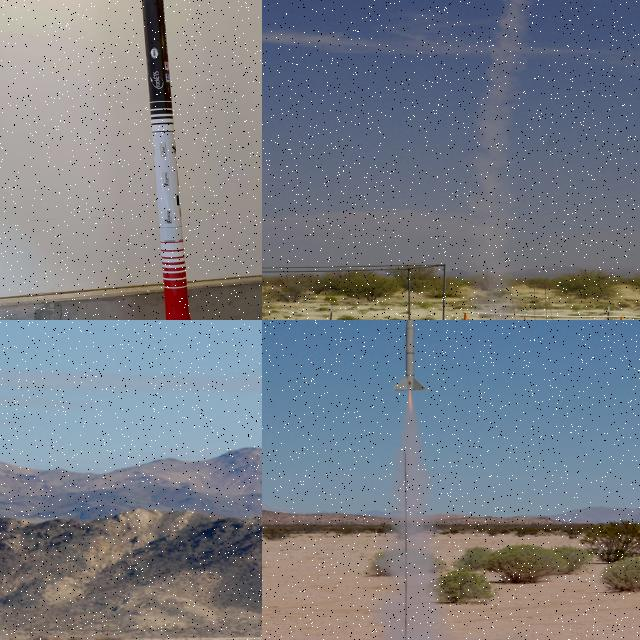Rocket: (141, 0, 192, 320), (393, 320, 427, 391)
